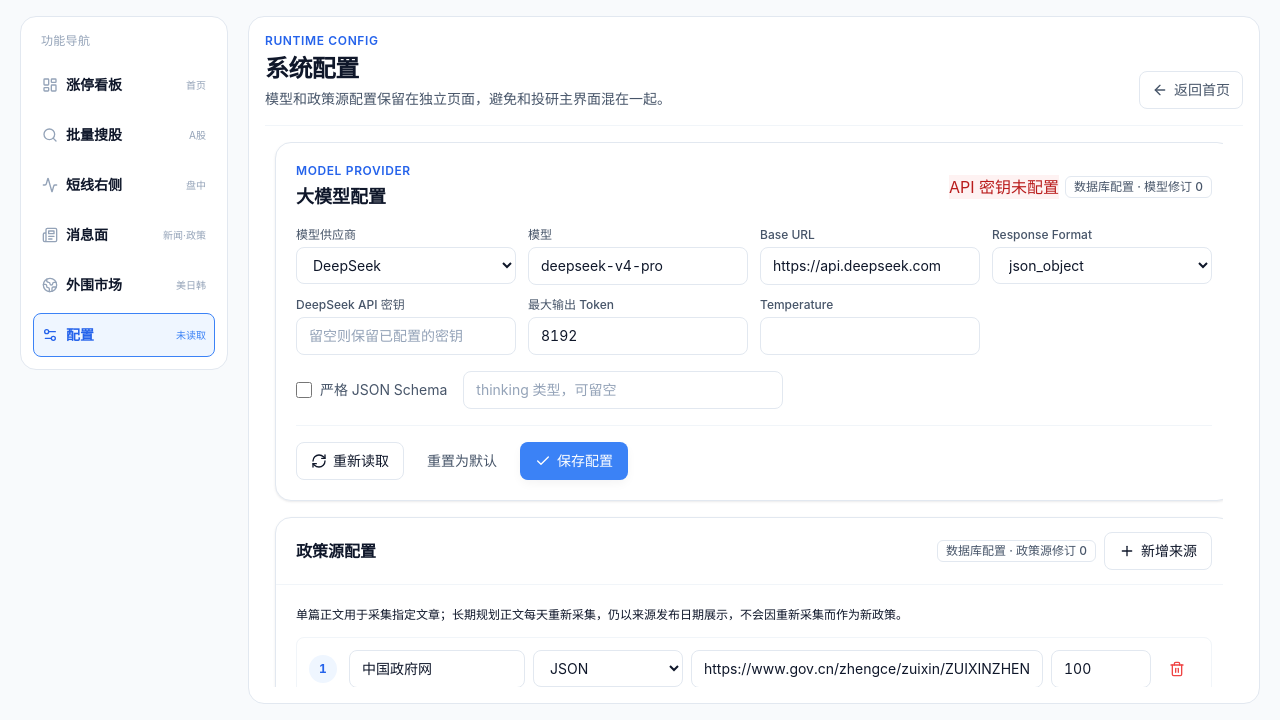
it: App home routes and navigation › returns from settings to the home board using the header action
The width and height of the screenshot is (1280, 720).
Expected: the heading "系统配置" is shown, [265, 54, 359, 83]
Step 1. Click the button "返回首页" → (1191, 90), box [1139, 71, 1243, 109]
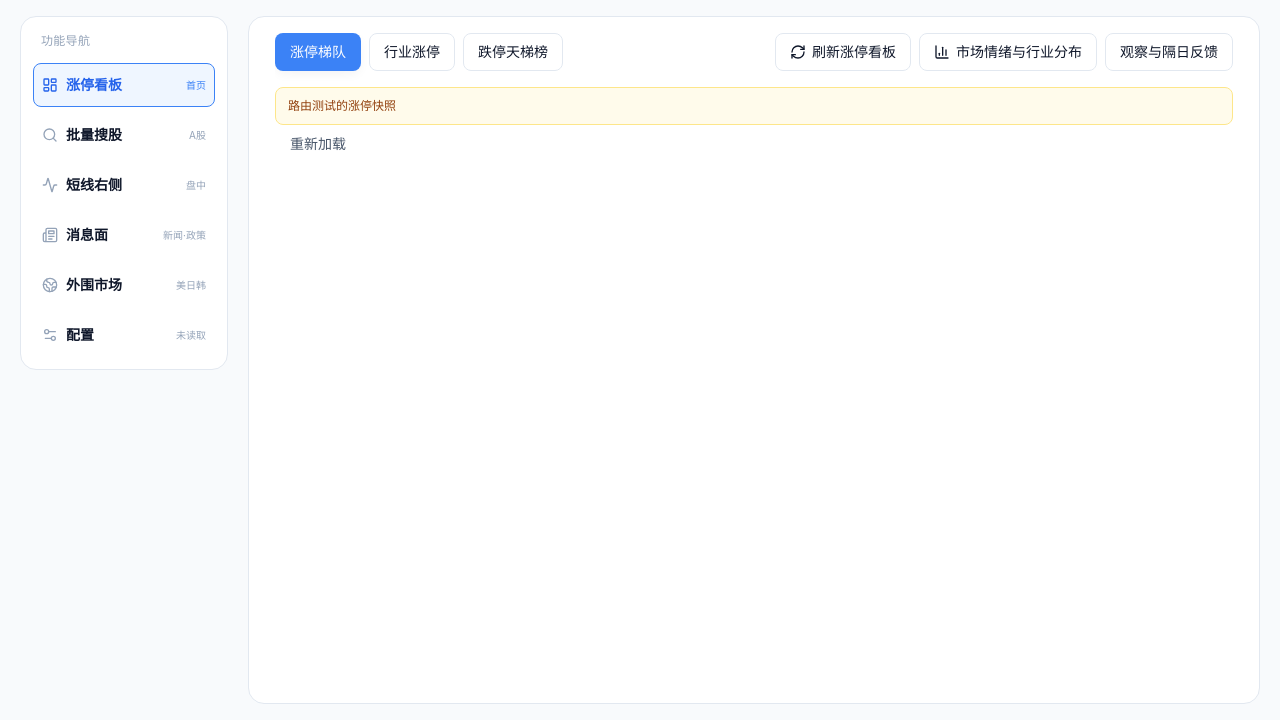
Expected: the button "涨停看板 首页" is shown, [33, 63, 215, 107]
Expected: the element showing "涨停梯队 行业涨停 跌停天梯榜 刷新涨停看板 市场情绪与行业分布 观察与隔日反馈 路由测试的涨停快照 重新加载" is shown, [275, 33, 1233, 162]
